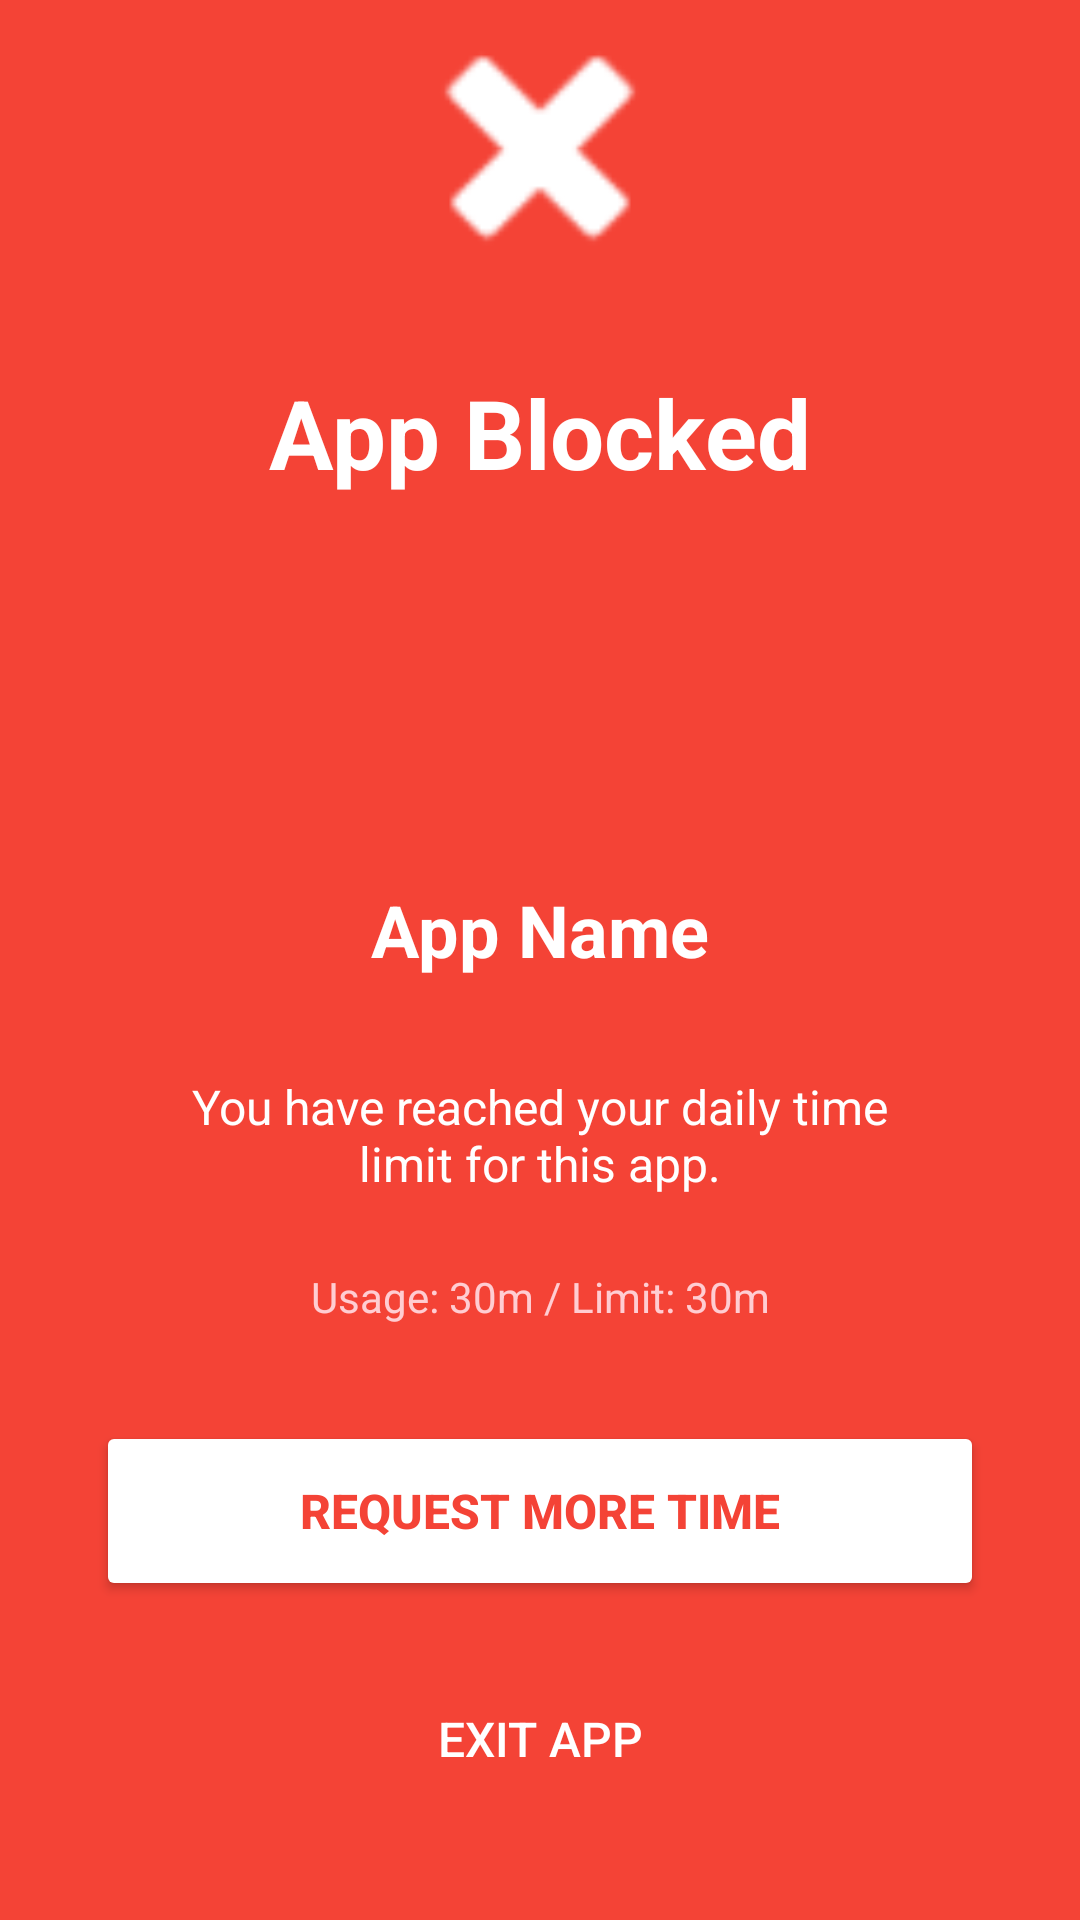

Screen size 1080px×1920px. Icon name, then its center in pixels as point (x, y):
Block Icon: point (540, 148)
